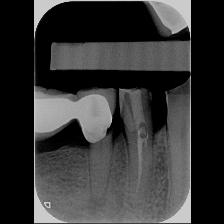apical_lesion: (76, 88, 117, 224)
